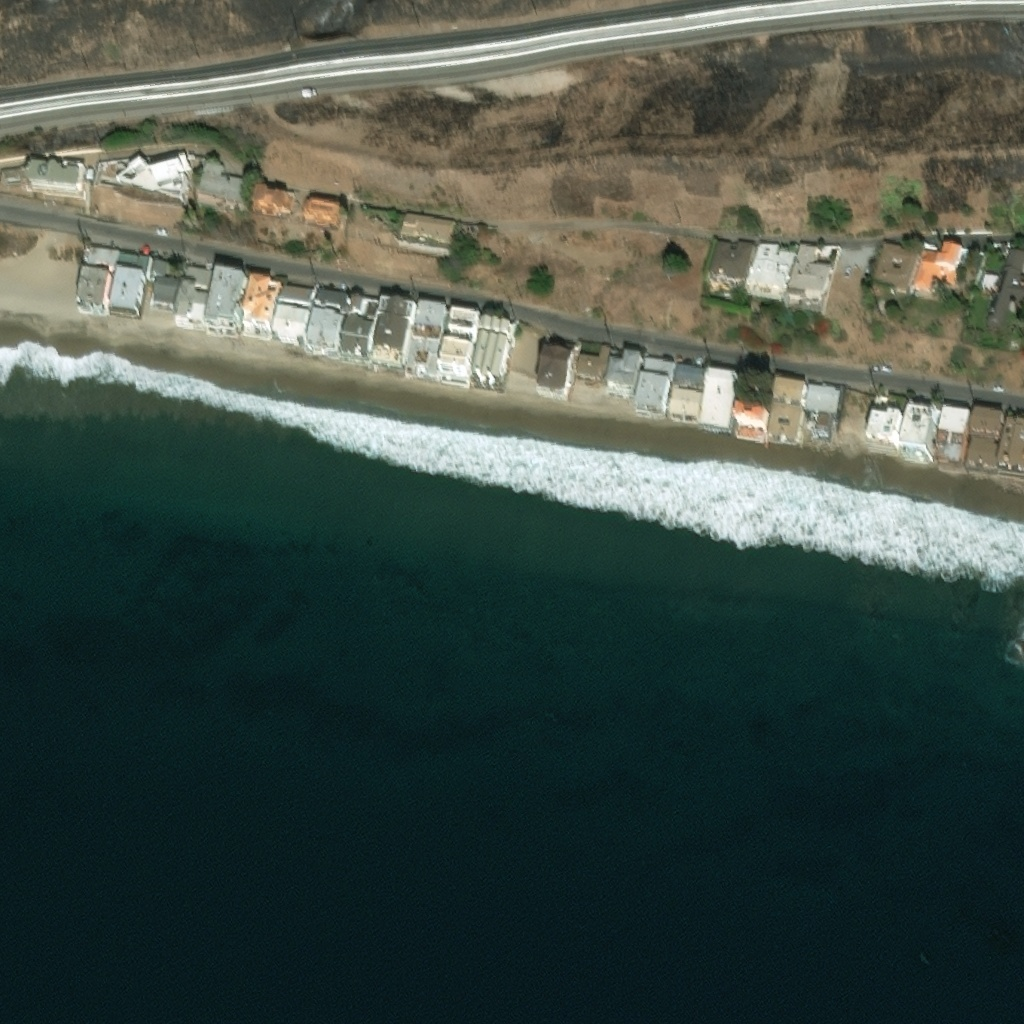0 no-damage: (116, 152, 191, 205), (783, 239, 832, 312), (986, 237, 1023, 329), (371, 298, 417, 368), (746, 238, 794, 302), (338, 294, 381, 363), (206, 268, 248, 335), (240, 274, 282, 338), (911, 232, 959, 288), (698, 368, 739, 432), (174, 264, 214, 329), (634, 355, 675, 418), (872, 235, 918, 291), (767, 376, 806, 442), (963, 405, 1004, 466), (537, 336, 577, 398), (899, 399, 940, 458), (196, 158, 247, 204), (668, 362, 706, 423), (470, 333, 510, 387), (23, 159, 84, 193), (710, 238, 756, 283), (934, 404, 969, 463), (804, 380, 839, 435), (109, 263, 146, 315), (401, 210, 455, 245), (304, 307, 344, 353), (405, 334, 443, 377), (606, 350, 642, 395), (866, 407, 903, 449), (271, 305, 310, 343), (996, 416, 1023, 470), (78, 268, 112, 310), (575, 344, 611, 382), (733, 401, 770, 437), (250, 185, 293, 215), (302, 200, 343, 228), (150, 274, 179, 309), (415, 300, 448, 330), (315, 285, 351, 312), (84, 244, 119, 268), (279, 282, 315, 305), (479, 316, 515, 336), (136, 253, 153, 274), (150, 257, 167, 277), (117, 250, 138, 266), (980, 266, 996, 284), (818, 240, 832, 254), (611, 348, 623, 357)
